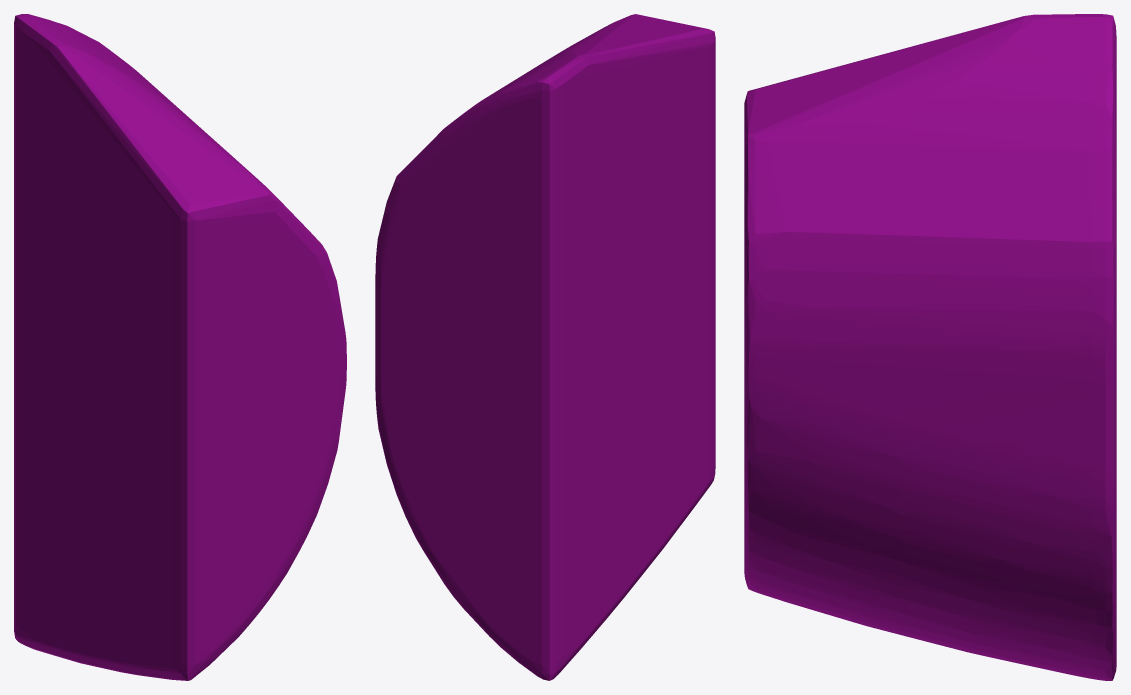
Rendered from right_th_distal_pst_part_14.obj.
The picture shows the model from 3 angles, left to right: view 1: azimuth 30°, elevation 25°; view 2: azimuth 150°, elevation 25°; view 3: azimuth 270°, elevation 25°; orthographic projection. The views are drawn at different scales.
Size of the model in its own units: 5.05 by 16.13 by 8.21.
